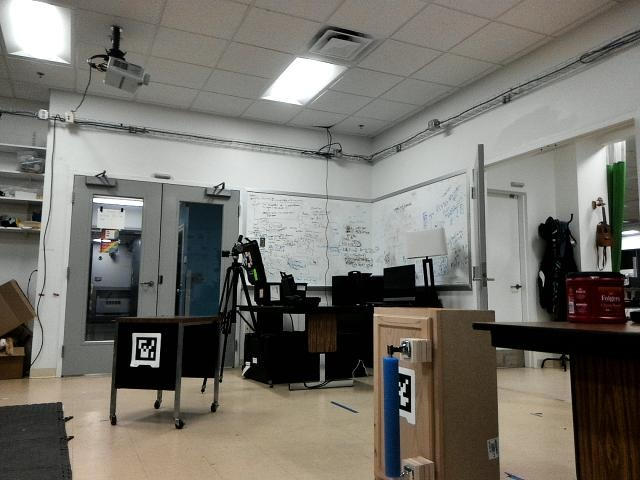noodle_handle: (379, 354, 406, 480)
